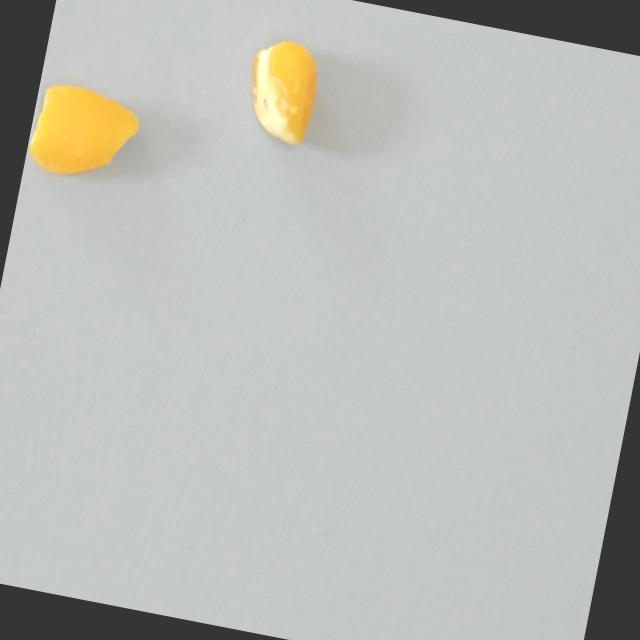estandar: (22, 74, 155, 198)
punto_negro: (212, 19, 361, 159)
